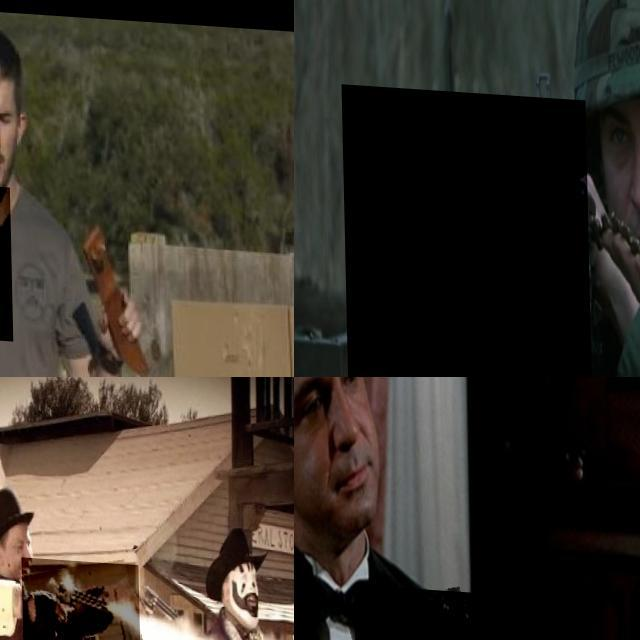-: (0, 177, 52, 337)
gun-knife-thesis - v11 Yolov5 augmented: (340, 83, 591, 377), (20, 554, 138, 640), (352, 580, 495, 640), (125, 566, 178, 629)
